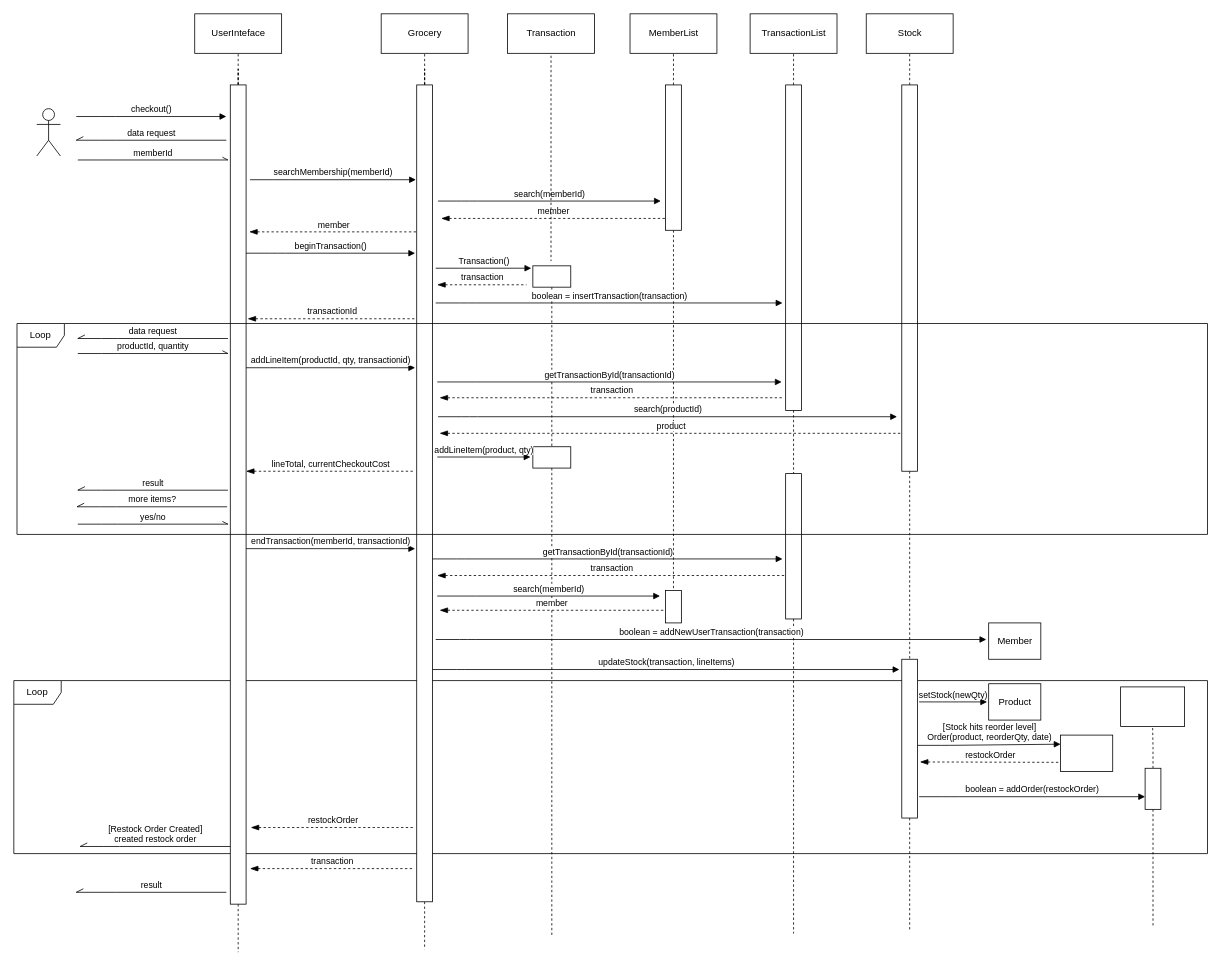
Image size: 1221x967. Some labels were removed from this diagram. The shapes that lost their labels are listed below. From the top down, each one's box as (x1, y1, x2, y2) in pixels, then its label:
(36, 108, 60, 156): Actor
(1120, 686, 1185, 726): OrderList
(1060, 734, 1113, 771): Order
